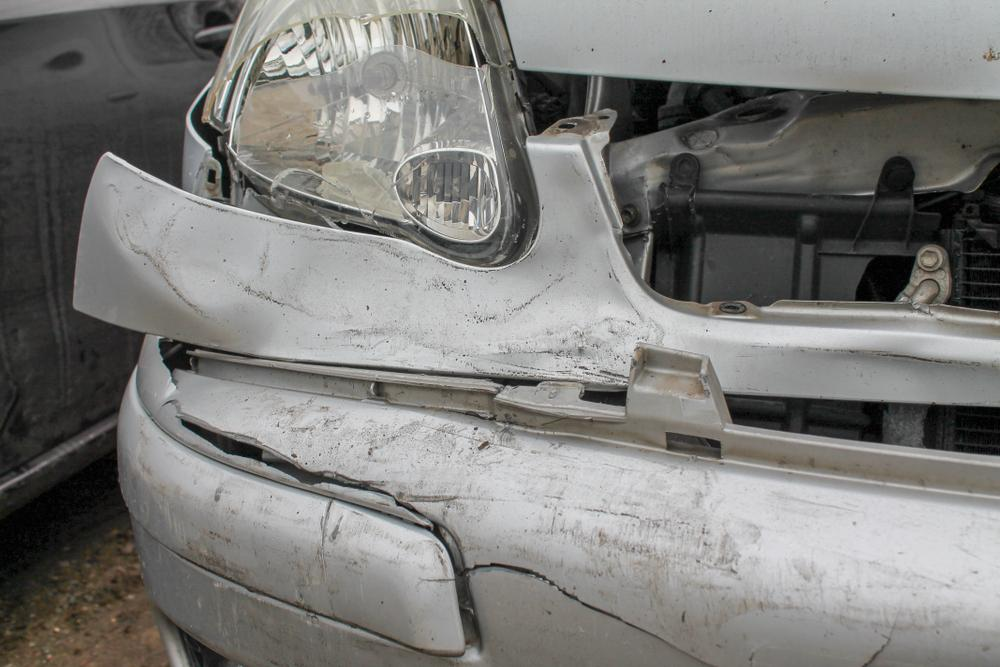crack: (169, 374, 437, 524), (464, 563, 720, 667), (859, 598, 901, 667)
dent: (130, 144, 650, 382)
lamp broken: (201, 0, 540, 271)
scratch: (257, 390, 935, 631), (120, 424, 460, 667)
